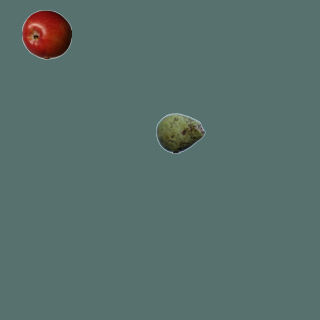Apple Braeburn: (21, 9, 71, 59)
Pear Stone: (155, 108, 205, 158)
